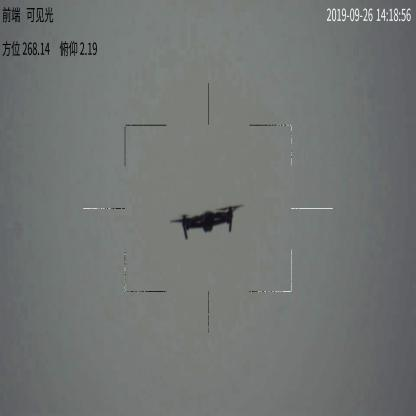uav: (170, 200, 247, 243)
